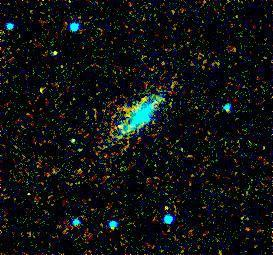star: (59, 126, 89, 156)
